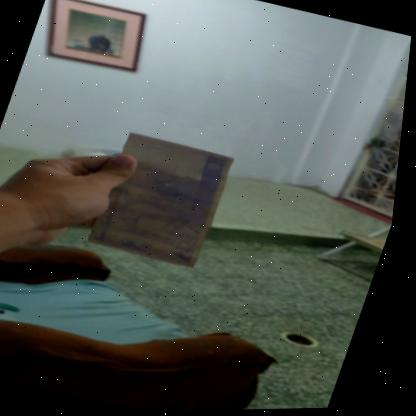ten-back-vef: (87, 130, 241, 274)
